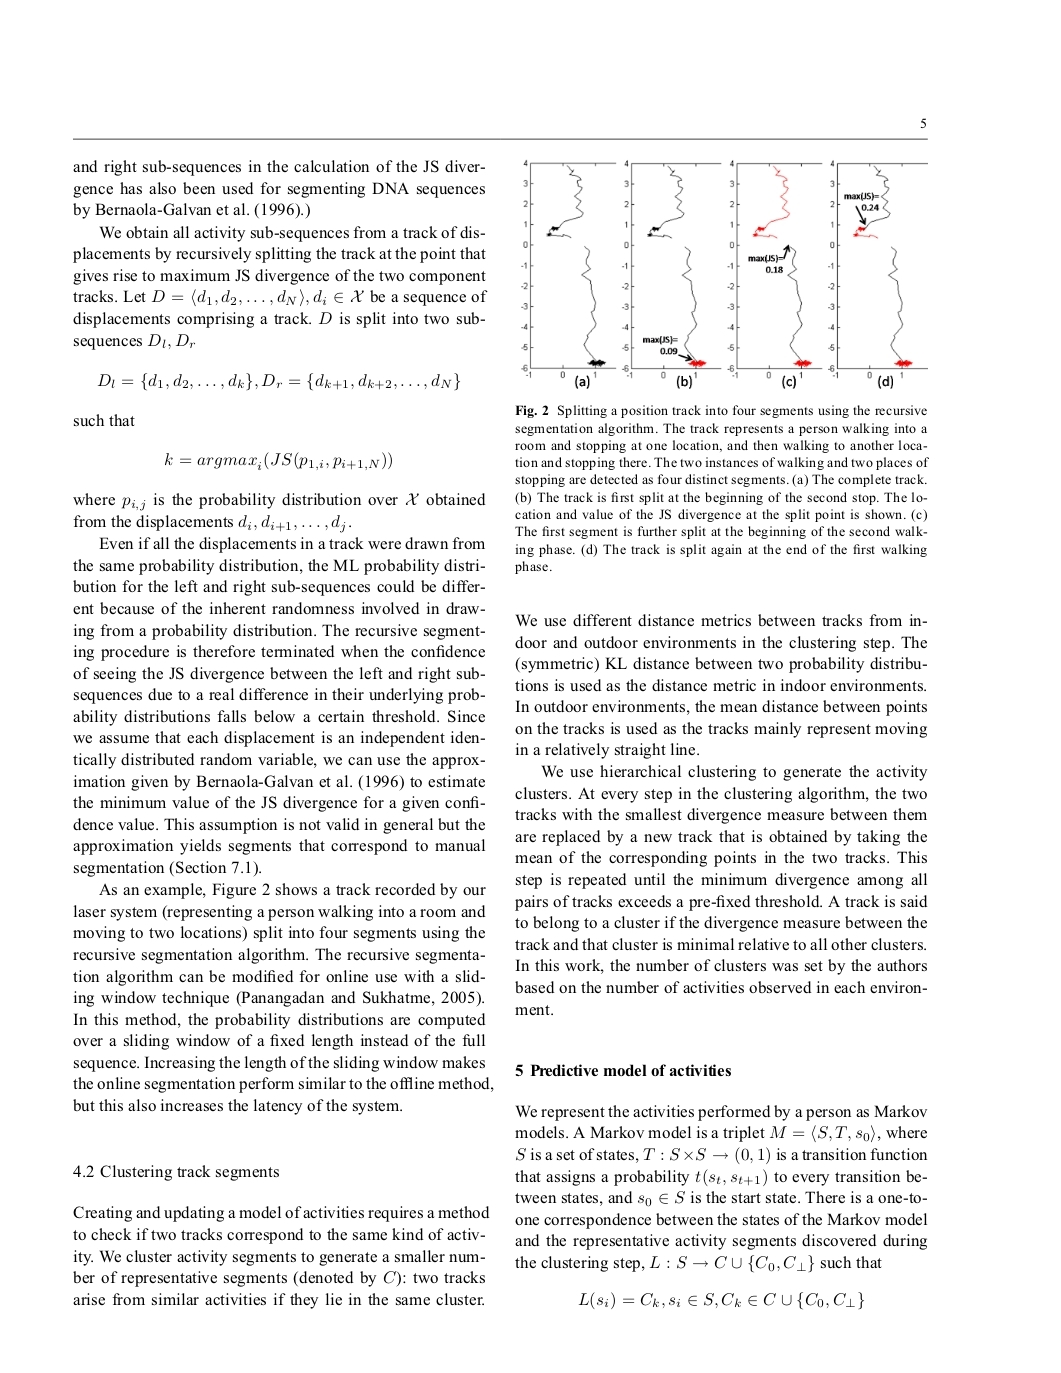figure: (622, 160, 721, 388), (828, 160, 927, 388), (520, 159, 616, 388), (727, 160, 822, 388)
formula: (97, 372, 459, 391), (578, 1291, 863, 1309), (165, 451, 391, 471)
